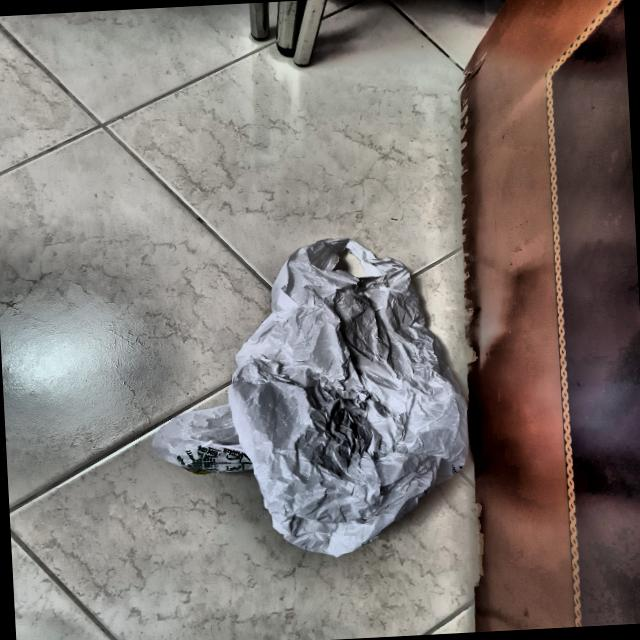plastic bag: (160, 238, 474, 556)
